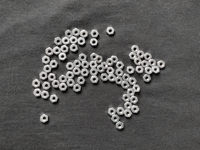nut: (40, 115, 49, 124), (41, 91, 50, 100), (42, 82, 51, 91), (59, 75, 68, 84), (50, 95, 59, 103), (40, 72, 48, 81), (44, 65, 52, 74), (42, 56, 50, 65), (46, 47, 54, 56), (61, 45, 69, 54), (62, 37, 70, 46), (78, 37, 86, 46), (73, 84, 81, 93), (77, 77, 86, 85), (131, 106, 140, 114), (123, 94, 131, 103), (127, 89, 136, 97), (116, 62, 125, 70), (143, 75, 152, 83), (34, 89, 42, 97), (32, 80, 40, 88), (48, 74, 56, 82), (52, 80, 60, 88), (50, 61, 58, 69), (54, 38, 62, 46), (59, 53, 67, 61), (65, 30, 73, 38), (70, 44, 78, 52), (70, 36, 78, 44), (80, 30, 88, 38), (91, 30, 99, 38), (107, 27, 115, 35), (59, 83, 67, 91), (67, 79, 75, 87), (73, 68, 81, 76), (74, 60, 82, 68), (81, 69, 89, 77), (82, 61, 90, 69), (79, 54, 87, 62), (91, 76, 99, 84), (90, 61, 98, 69), (101, 74, 109, 82), (107, 58, 115, 66), (111, 56, 119, 64), (107, 67, 115, 75), (116, 77, 124, 85), (112, 115, 120, 123), (108, 108, 116, 116), (117, 108, 125, 116), (124, 110, 132, 118), (125, 102, 133, 110), (133, 85, 141, 93), (116, 69, 124, 77), (123, 74, 131, 82), (127, 67, 135, 75), (136, 66, 144, 74), (134, 58, 142, 66), (132, 45, 140, 53), (145, 53, 153, 61), (145, 67, 153, 75), (149, 59, 157, 67), (158, 61, 166, 69), (73, 28, 80, 37), (66, 72, 75, 79), (66, 63, 75, 70), (54, 47, 61, 55), (90, 39, 98, 46), (90, 69, 98, 76), (91, 53, 98, 61), (98, 65, 105, 73), (108, 75, 116, 82), (117, 122, 124, 130), (131, 96, 138, 104), (122, 82, 130, 89), (129, 78, 137, 85), (130, 52, 137, 60), (137, 51, 145, 58), (142, 61, 150, 68), (153, 66, 160, 74), (96, 56, 103, 63), (101, 63, 108, 70)
